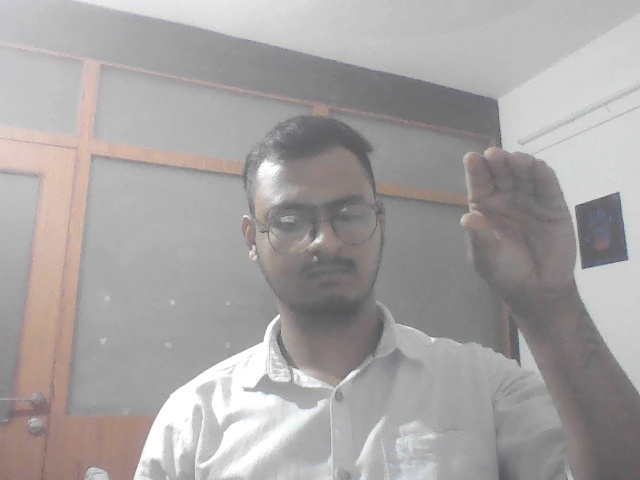NO: (437, 146, 594, 310)
